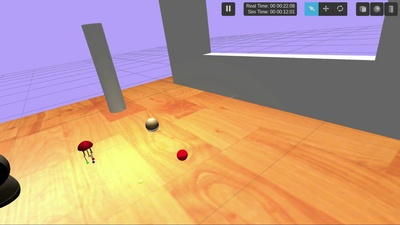mira_robot: (146, 118, 159, 132)
